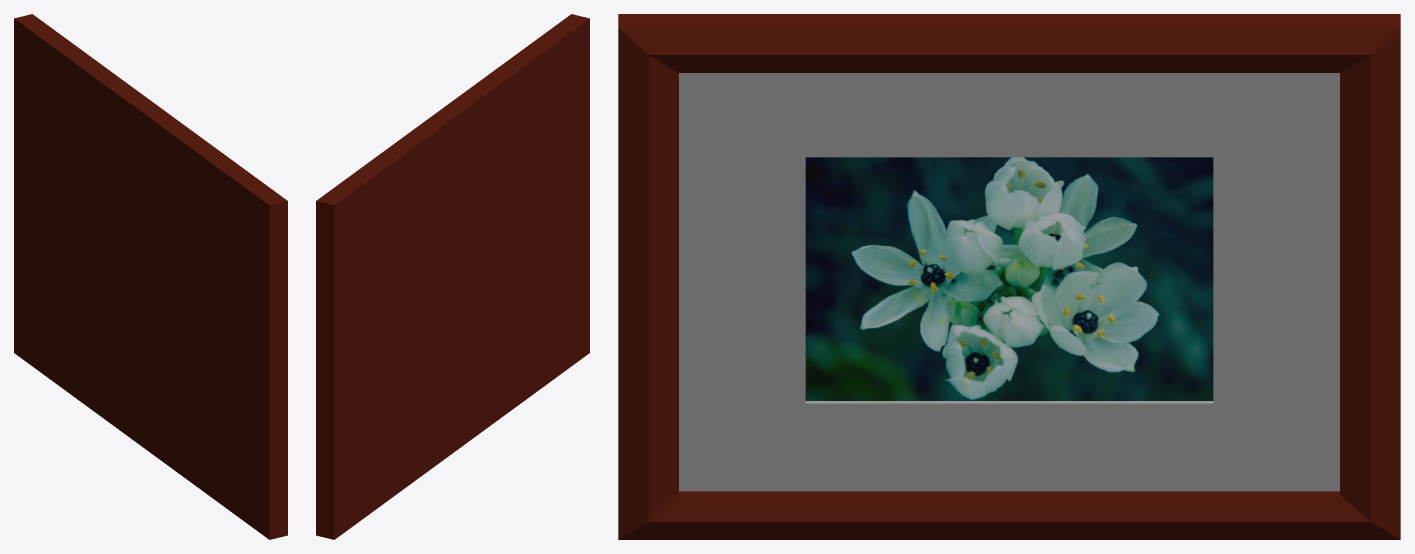
The model's file is photoframe.obj.
3 views of the same model, side by side, from view 1: azimuth 30°, elevation 25°; view 2: azimuth 150°, elevation 25°; view 3: azimuth 270°, elevation 25° (orthographic). The views are drawn at different scales.
Visible parts, largest first — view 1: Frame_立方体; view 2: Frame_立方体; view 3: Frame_立方体, Photo_立方体.001.
Boxes of the visible parts, bbox=[...] form: Frame_立方体: bbox=[14, 14, 287, 539]; Frame_立方体: bbox=[316, 14, 589, 539]; Frame_立方体: bbox=[618, 14, 1400, 539]; Photo_立方体.001: bbox=[805, 157, 1213, 400].
Size of the model in its own units: 0.02 by 0.26 by 0.36.
Materials: 3 (1 with a texture image).
